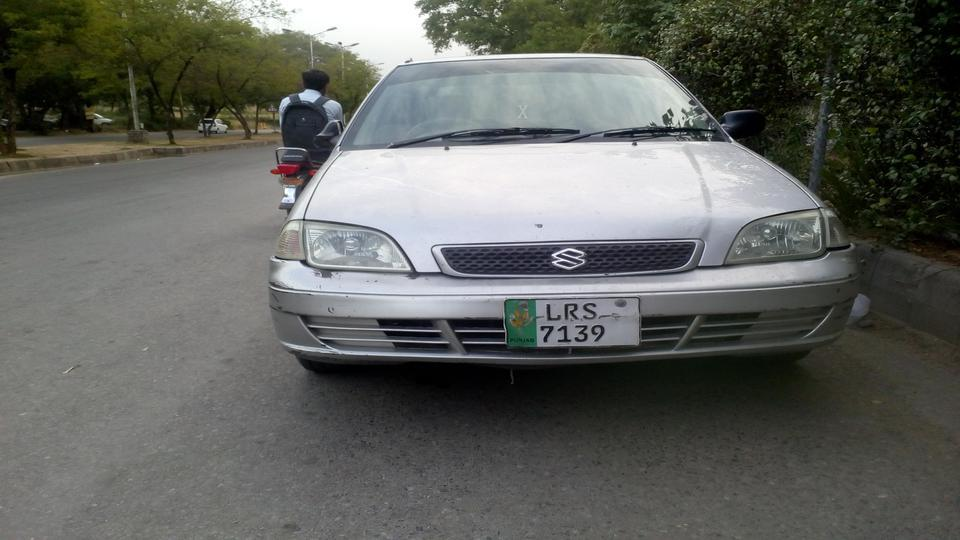NumberPlate: (503, 300, 647, 352)
